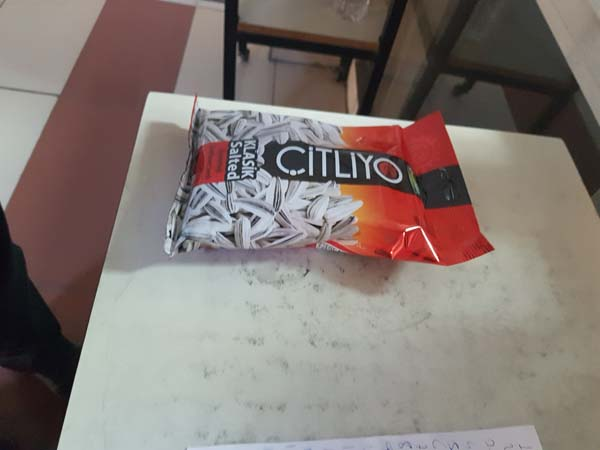citliyorklasik: (163, 94, 497, 273)
